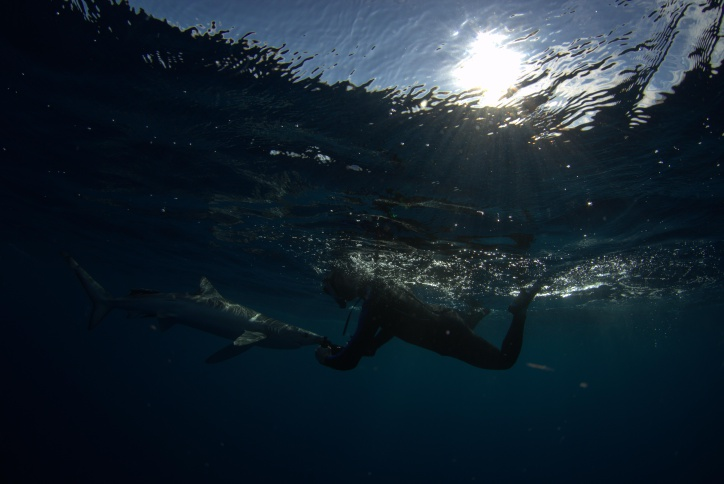Azul: (52, 238, 333, 377)
